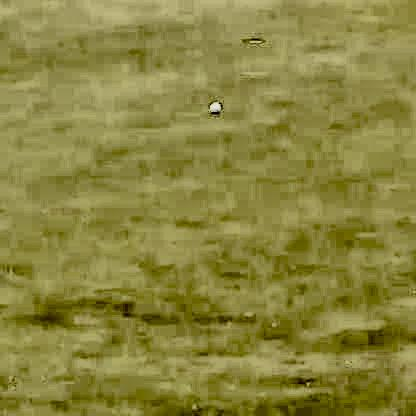golfball: (206, 97, 220, 112)
